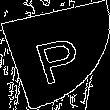P_N: (24, 26, 86, 84)
